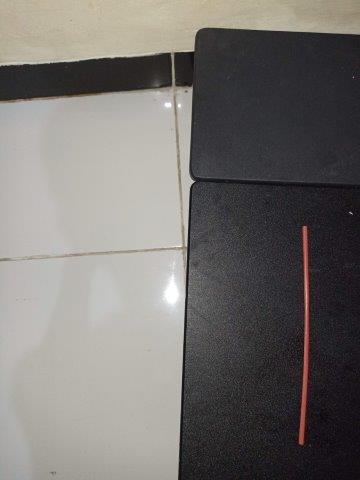sedotan: (297, 226, 309, 445)
